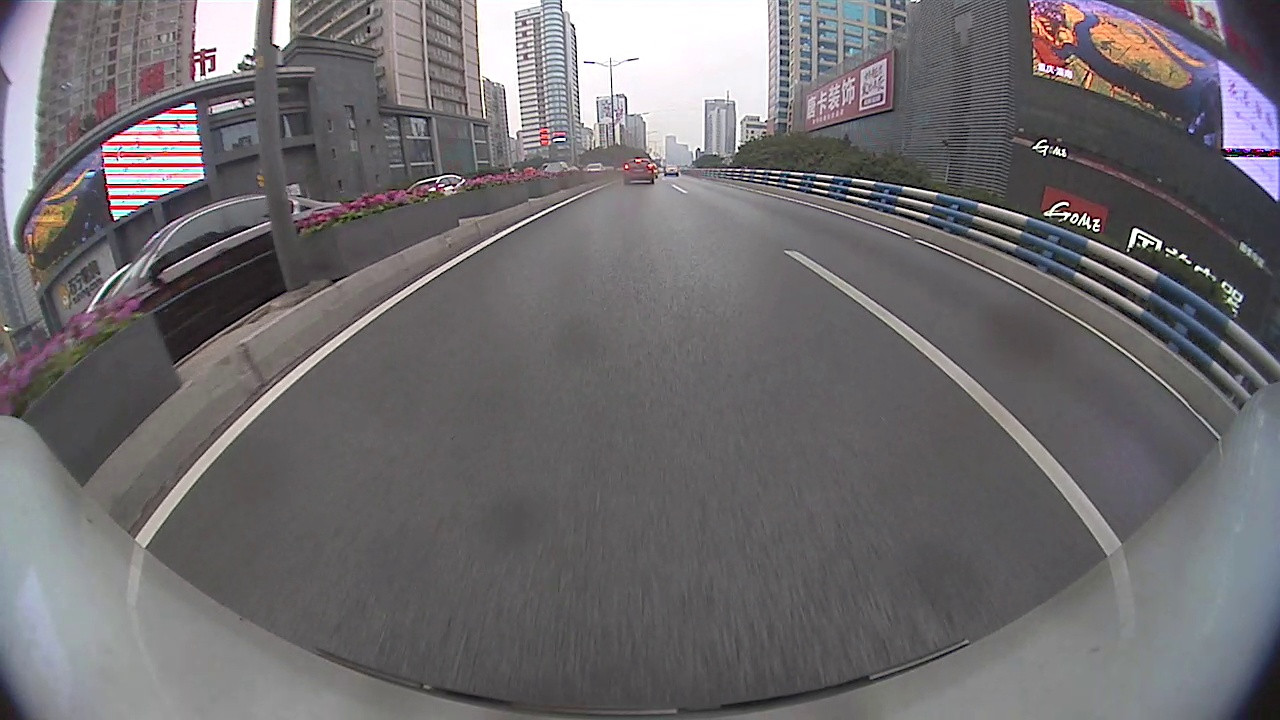car: (79, 190, 360, 371), (407, 172, 470, 200), (622, 155, 657, 186), (538, 159, 581, 174), (583, 161, 610, 173), (662, 162, 680, 177)
